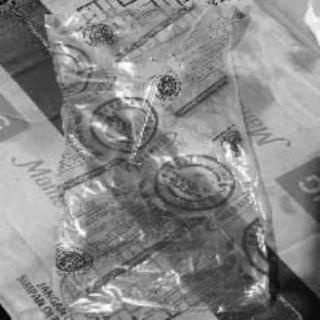objects: (42, 0, 283, 318)
